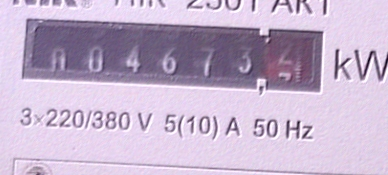0: (47, 44, 69, 75), (85, 43, 105, 75)
2: (275, 36, 296, 69)
3: (235, 43, 254, 78)
4: (123, 41, 143, 77)
6: (157, 43, 180, 78)
7: (195, 44, 219, 82)
screen: (17, 13, 329, 103)
